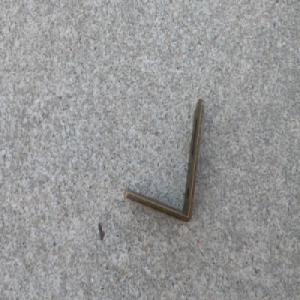MetalPart: (125, 97, 207, 223)
